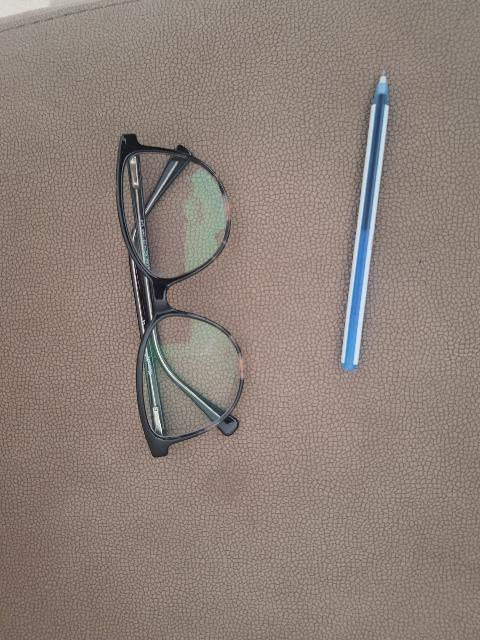writing_tool: (334, 68, 399, 375)
